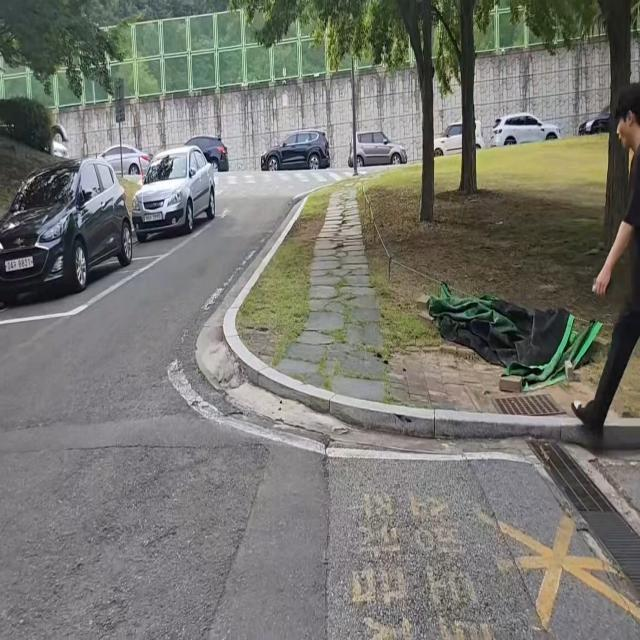obstacle: (562, 67, 640, 461), (0, 148, 141, 308), (125, 132, 218, 239)
road: (0, 196, 640, 640)
